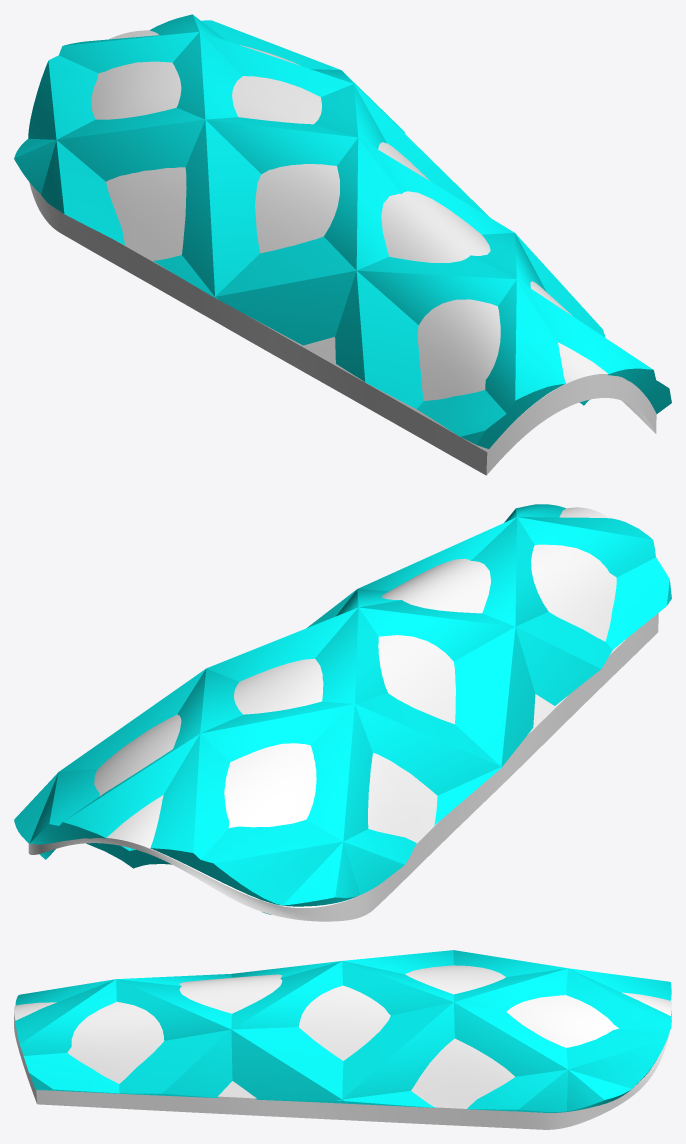
File: prism-full.glb
3 views of the same model, one above another, from view 1: azimuth 30°, elevation 25°; view 2: azimuth 150°, elevation 25°; view 3: azimuth 270°, elevation 25° (orthographic). The views are drawn at different scales.
Size of the model in its own units: 0.0149 by 0.00674 by 0.035.
